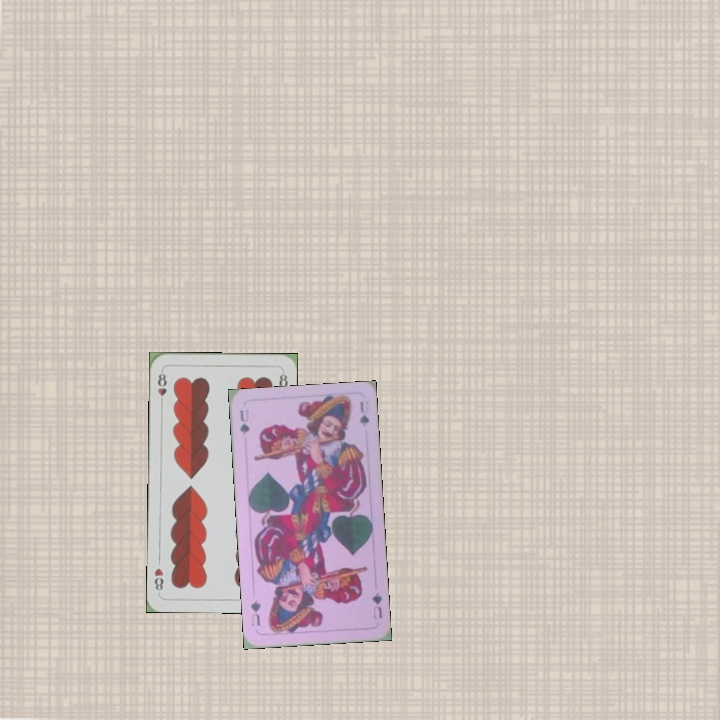GU: (368, 589, 385, 621), (236, 405, 252, 437)
H8: (154, 367, 169, 407)
